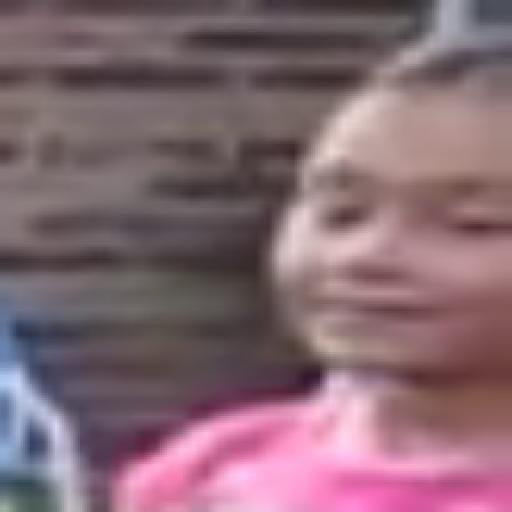Autism: (217, 0, 512, 450)
